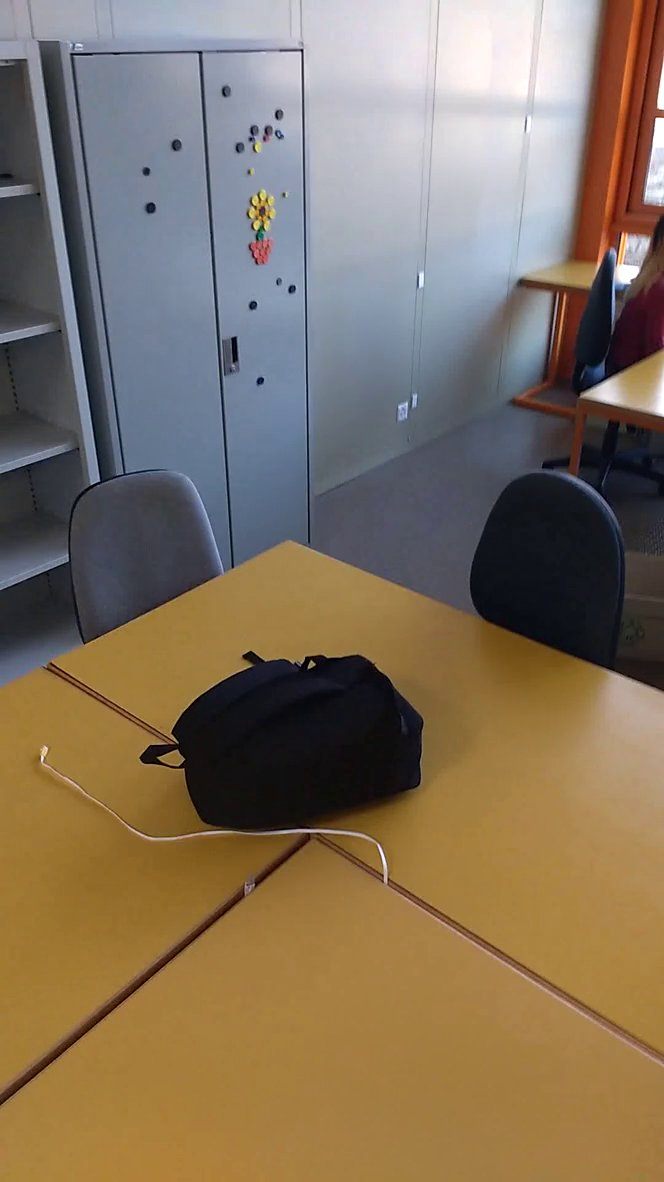bag: (132, 644, 453, 851)
chair: (466, 461, 643, 698), (46, 444, 246, 647)
